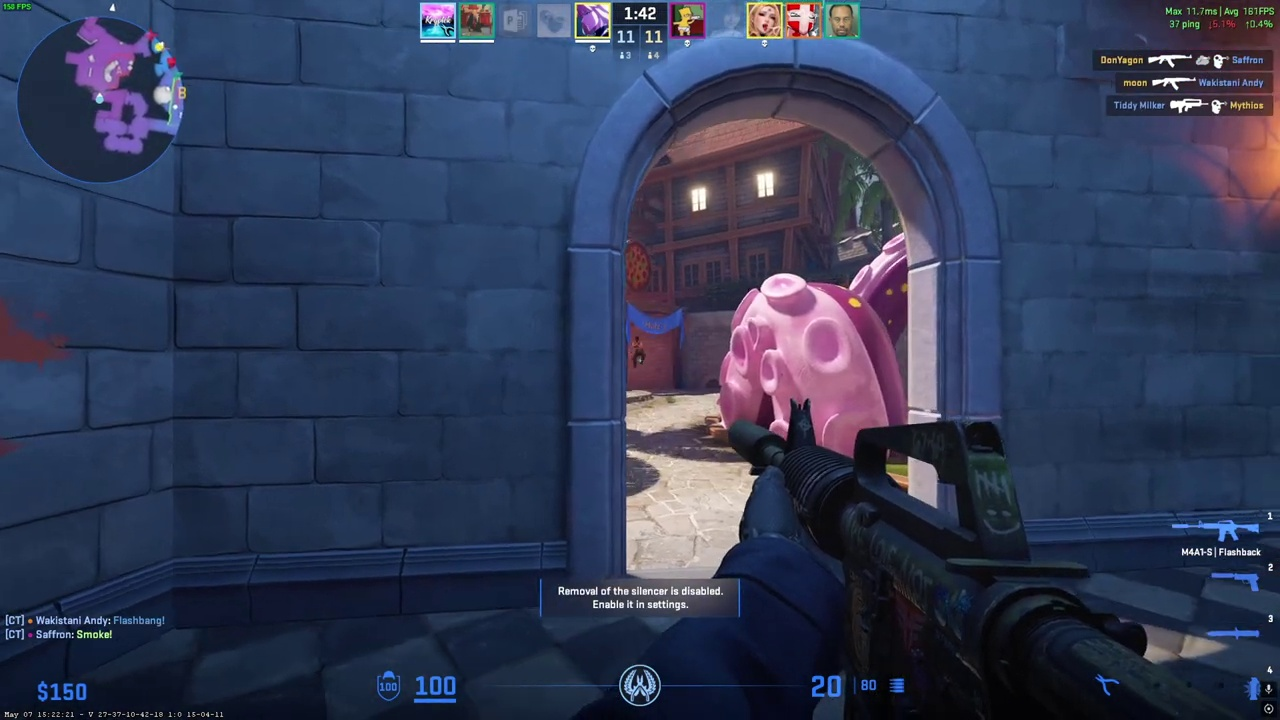Terrorist: (631, 336, 645, 367)
